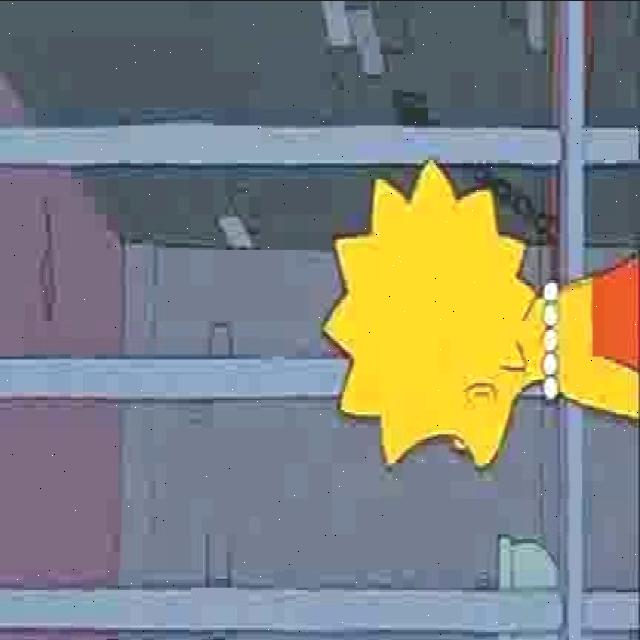Lisa Simpson: (320, 154, 560, 474)
